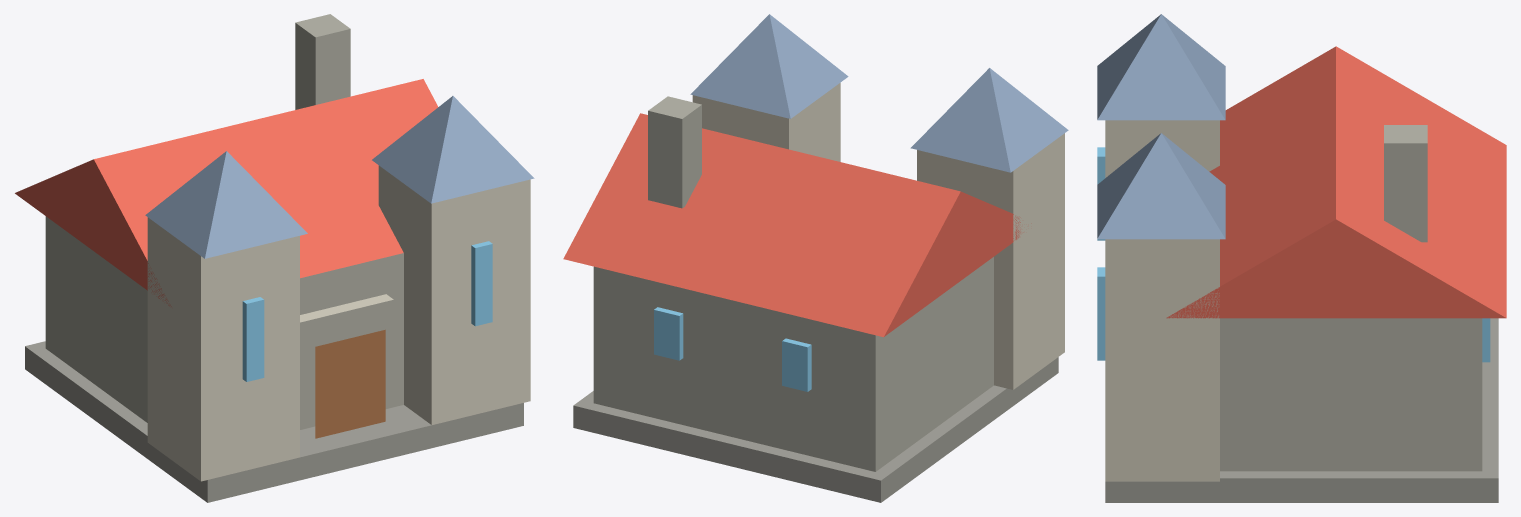
File: house_t3_v3.glb
3 views of the same model, side by side, from view 1: azimuth 30°, elevation 25°; view 2: azimuth 150°, elevation 25°; view 3: azimuth 270°, elevation 25° (orthographic). The views are drawn at different scales.
Visible parts, largest first — view 1: house_t3_v3; view 2: house_t3_v3; view 3: house_t3_v3.
Boxes of the visible parts, left/top/right/bottom form: house_t3_v3: left=15, top=14, right=534, bottom=502; house_t3_v3: left=563, top=14, right=1068, bottom=502; house_t3_v3: left=1097, top=14, right=1506, bottom=502.
Bounding box in the file's own units: 0.75 × 0.7 × 0.75.
1 material, 1 textured.
